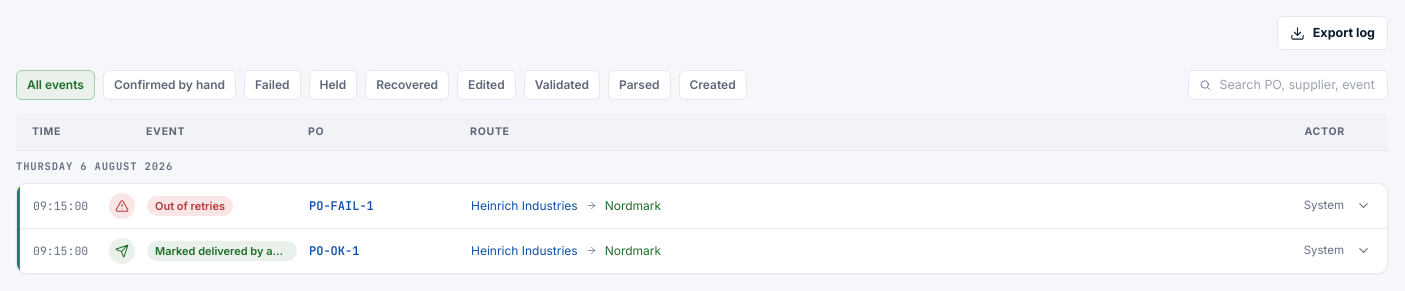
CrossingsLog — the 'Failed' chip matches real failures › the delivered-kind chip does NOT sweep up failures
Expected: the text "PO-FAIL-1" is shown, [309,198,374,214]
Click the button "Confirmed by hand" at (169, 85), box [103,70,236,100]
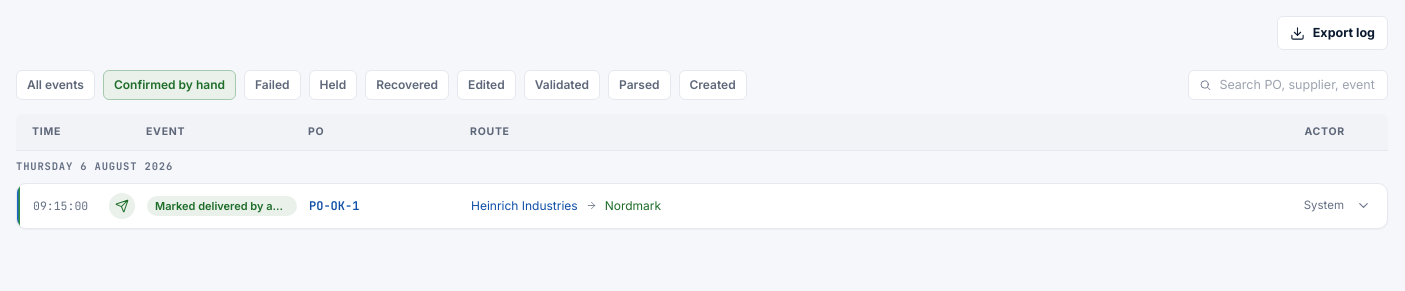
Expected: the text "PO-OK-1" is shown, [309,198,359,214]
Result: the button "PO-FAIL-1" is gone
